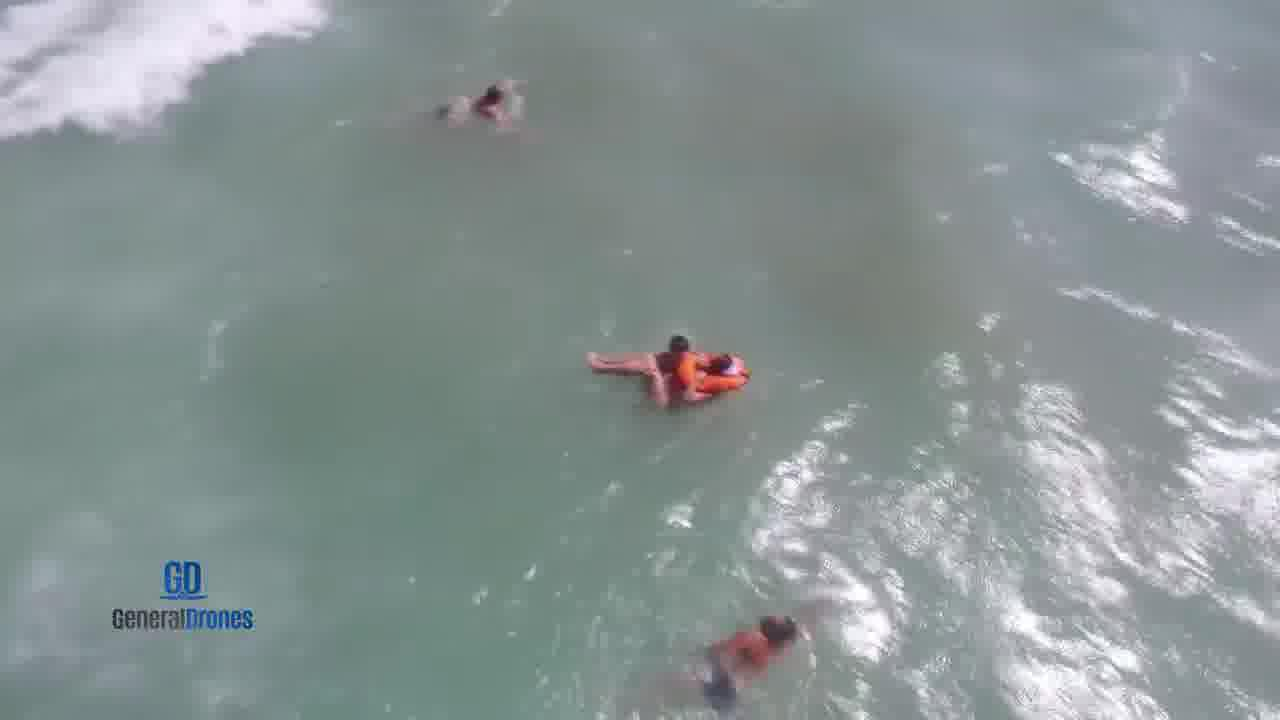swimmer: (667, 606, 814, 719), (579, 353, 752, 410), (462, 73, 534, 120), (646, 330, 714, 361)
